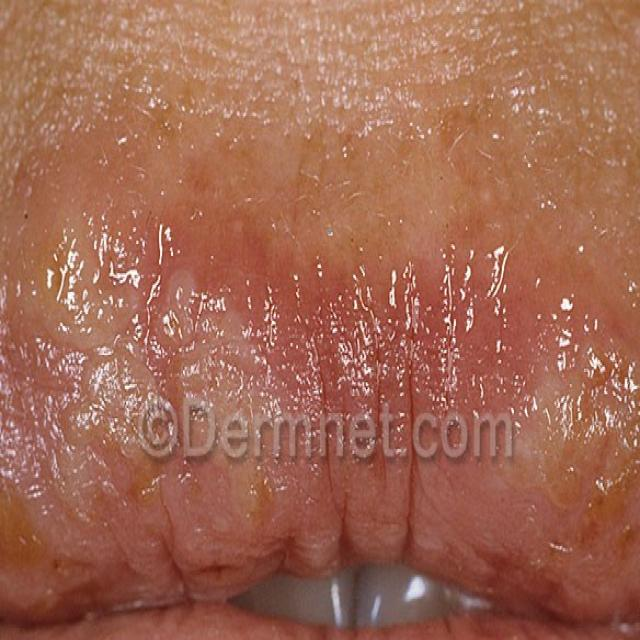Viral Infections: (0, 137, 285, 609), (495, 282, 640, 620), (319, 127, 600, 238)
